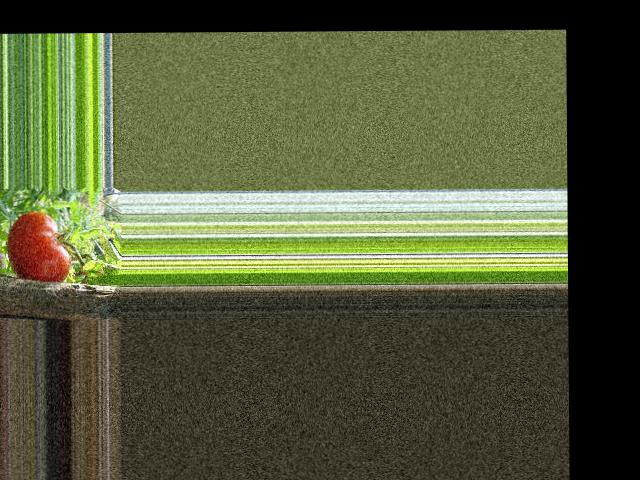tomato: (7, 210, 71, 283)
